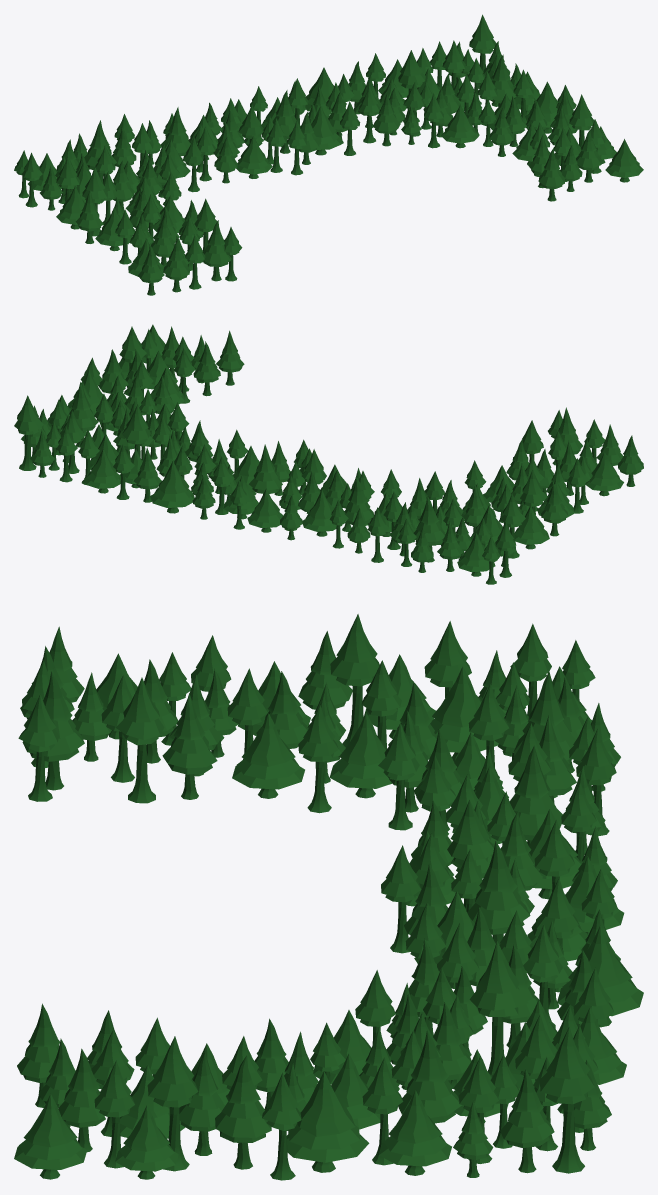
Rendered from Forest.fbx.
3 views of the same model, one above another, from view 1: azimuth 30°, elevation 25°; view 2: azimuth 150°, elevation 25°; view 3: azimuth 270°, elevation 25° (orthographic). The views are drawn at different scales.
Parts seen in each view (by area): view 1: Forest_Trees; view 2: Forest_Trees; view 3: Forest_Trees.
Part boxes in pixels (x1,y1,x2,y2): Forest_Trees: (14, 14, 643, 295); Forest_Trees: (14, 324, 643, 584); Forest_Trees: (14, 614, 643, 1180).
Size of the model in its own units: 10643 by 1455 by 5943.
